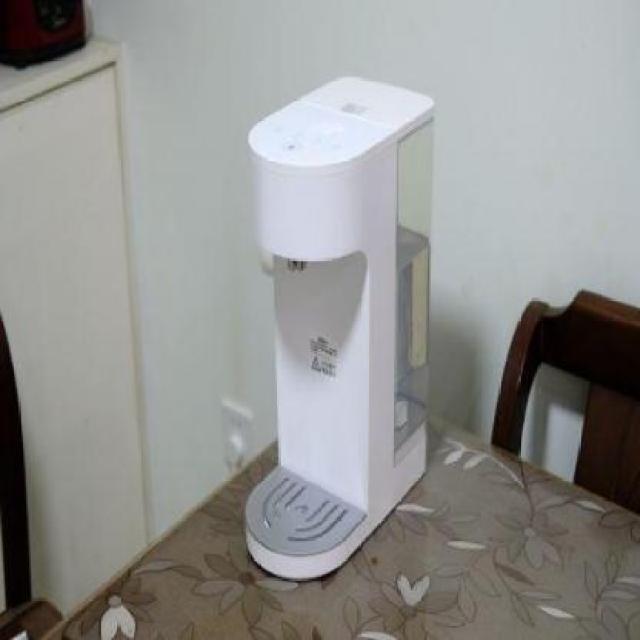cooler: (246, 77, 436, 581)
